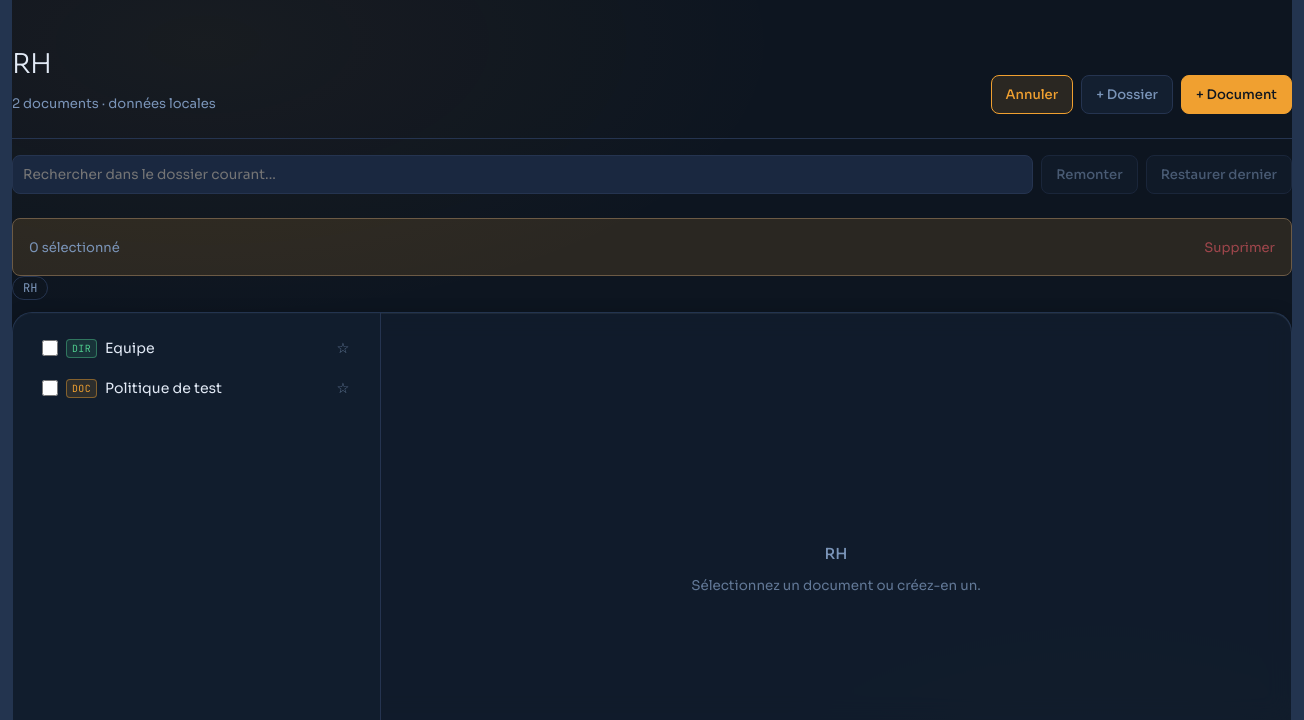
Test case: RhComponent › supports selecting and deleting multiple RH nodes
This screenshot has width=1304, height=720.
Click the 1st checkbox with class "treeitem-selection": (50, 348) 42,340 -> 58,356
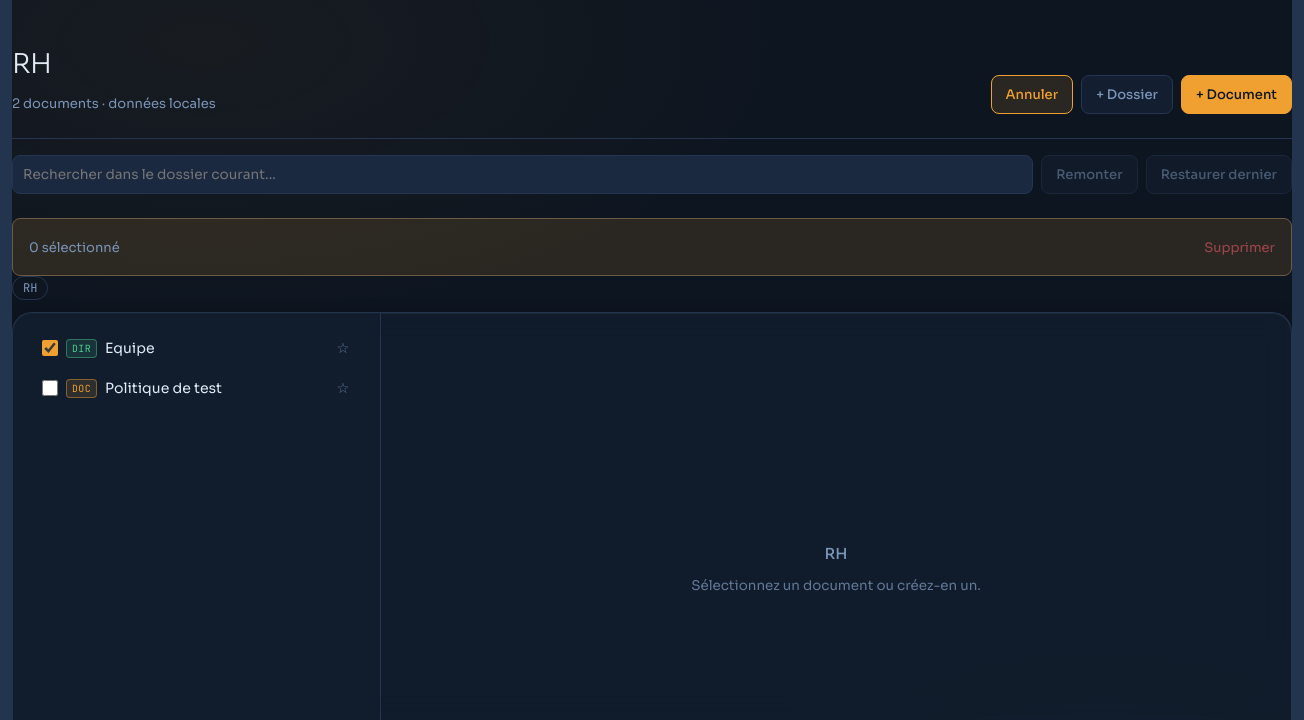
Click the 2nd checkbox with class "treeitem-selection": (50, 388) 42,380 -> 58,396
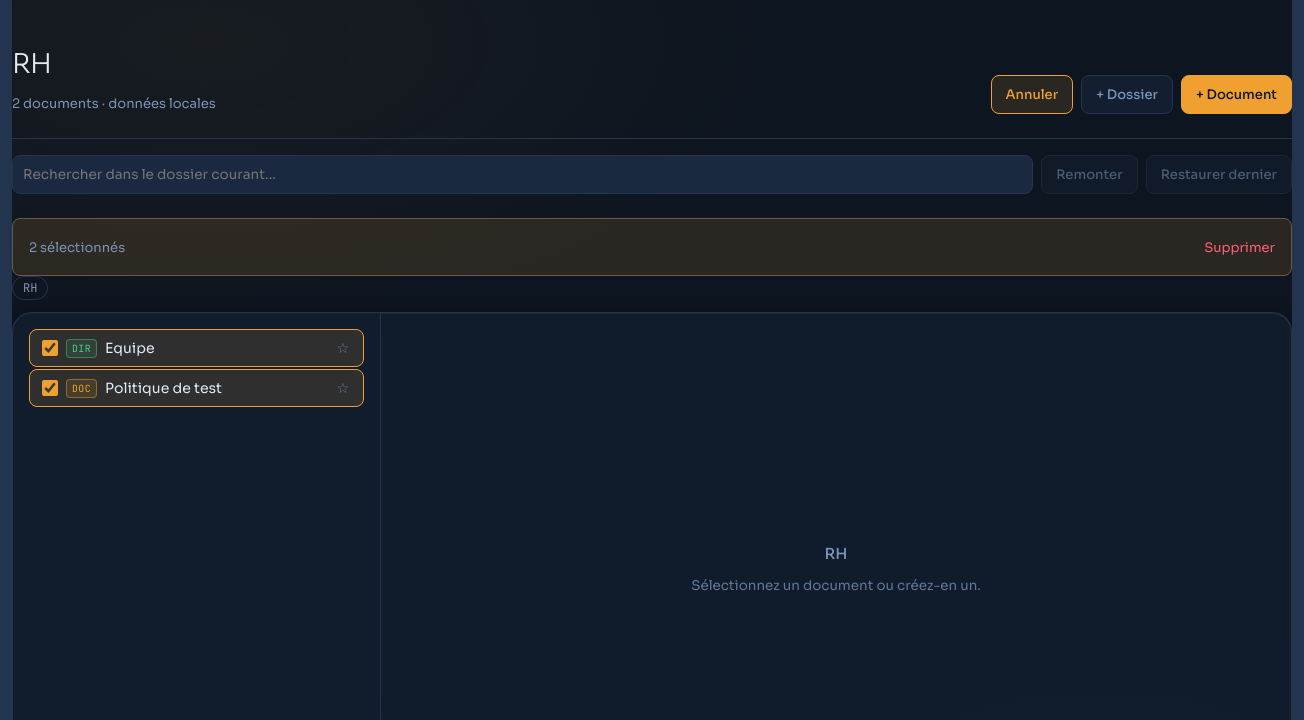
Expected: the message with class "selection-bar" shows "2 sélectionnés", 29,239 -> 125,256
